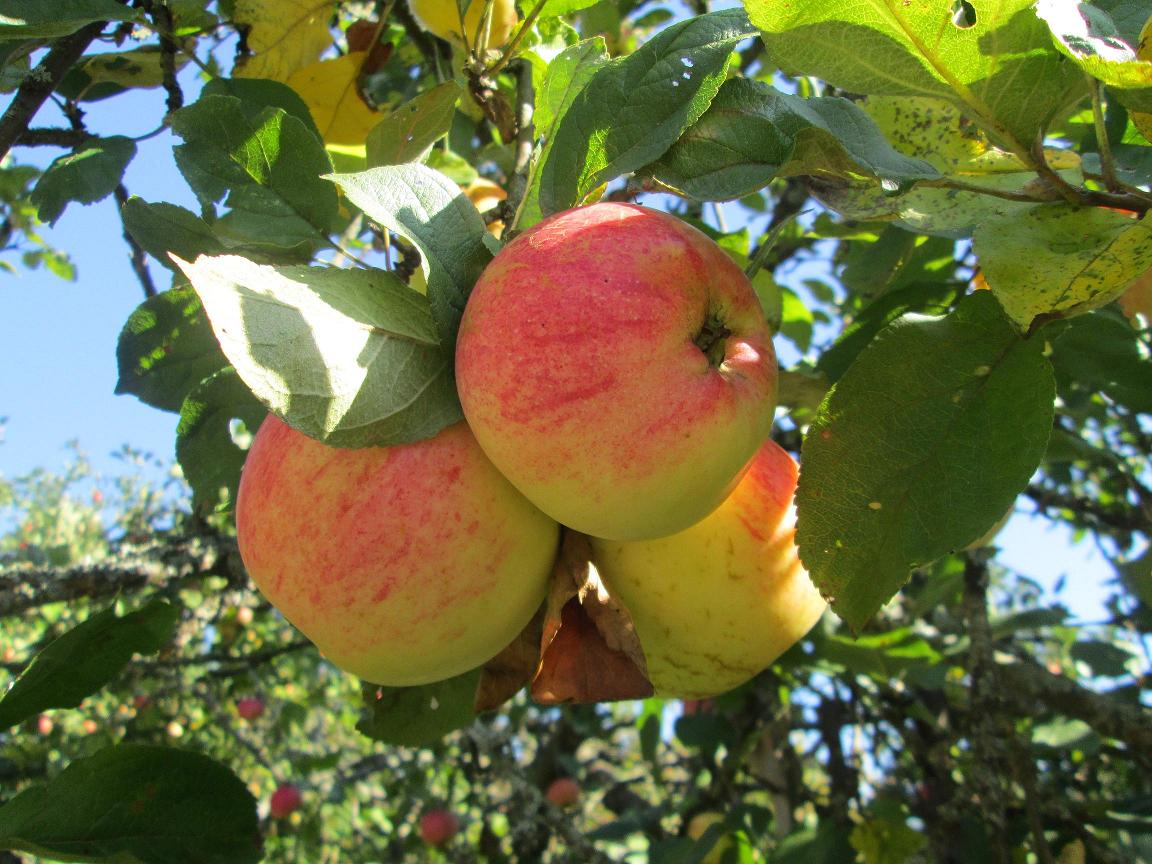apple: (457, 201, 769, 534)
obscured(1)_apple: (237, 365, 559, 688)
obscured(2)_apple: (580, 437, 836, 691)
